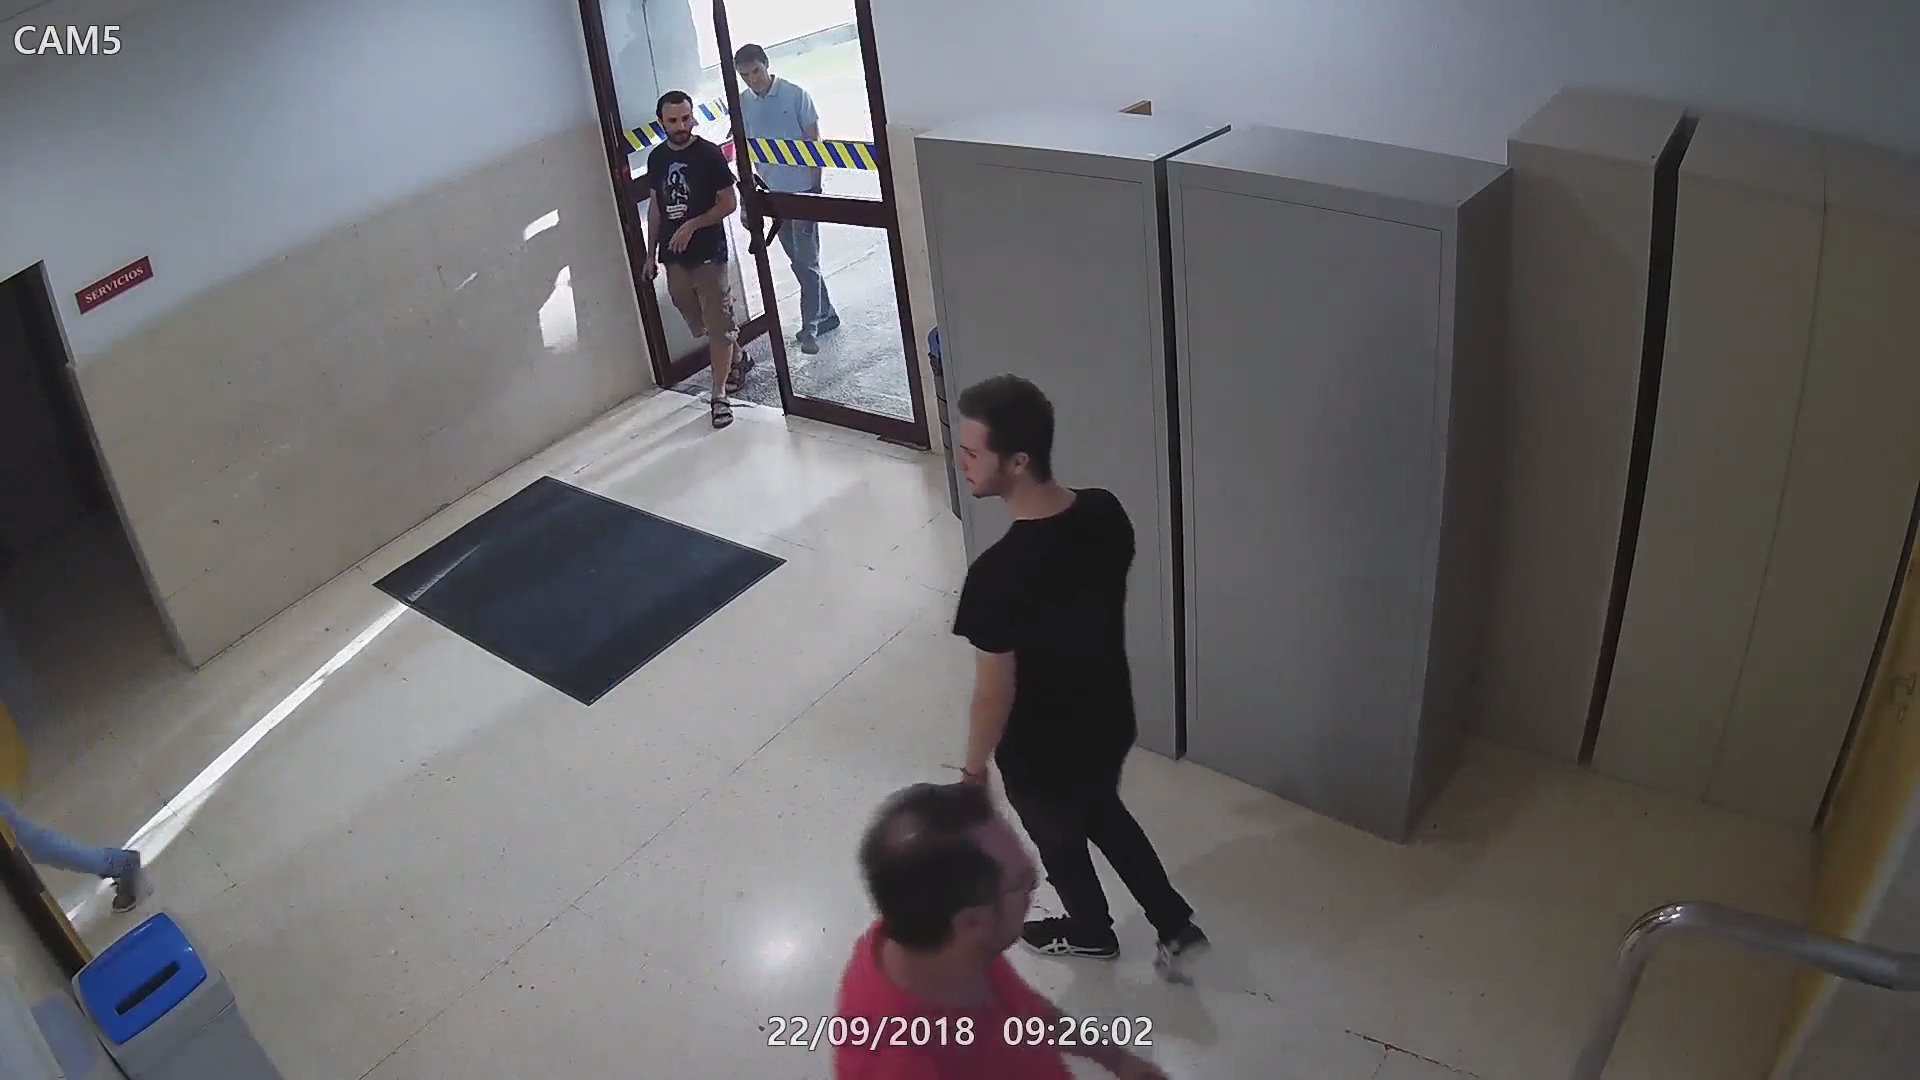pistol: (626, 260, 665, 295)
